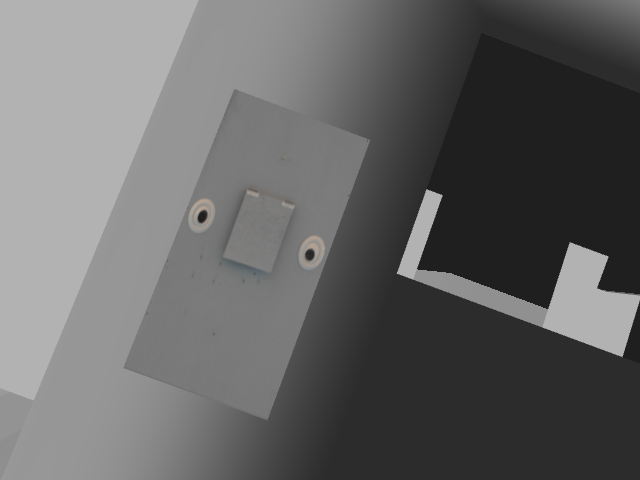facade: (186, 185, 330, 276)
